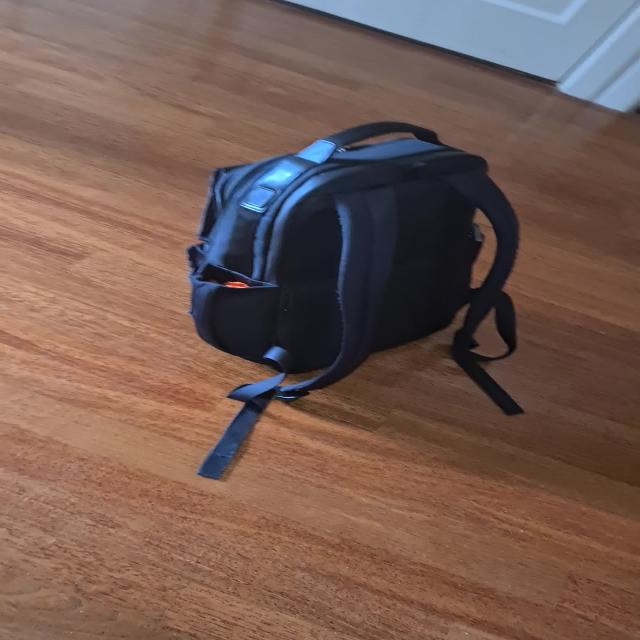backpack: (174, 109, 532, 394)
